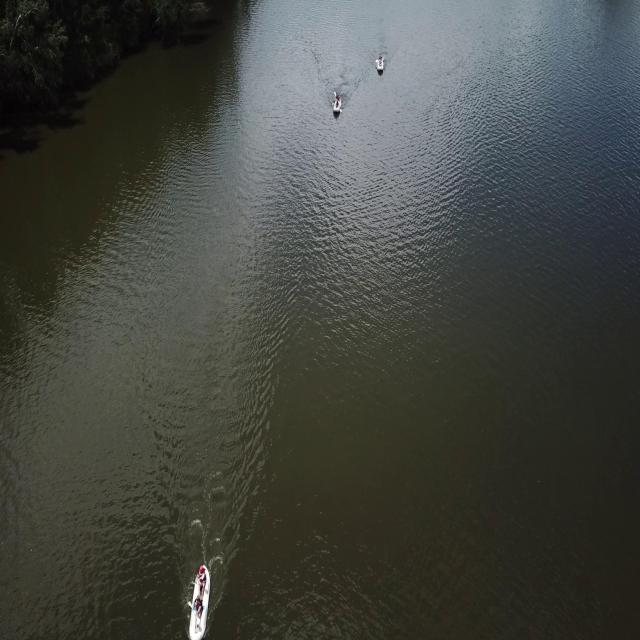kayak: (186, 551, 214, 640), (331, 92, 343, 120), (375, 54, 386, 77)
